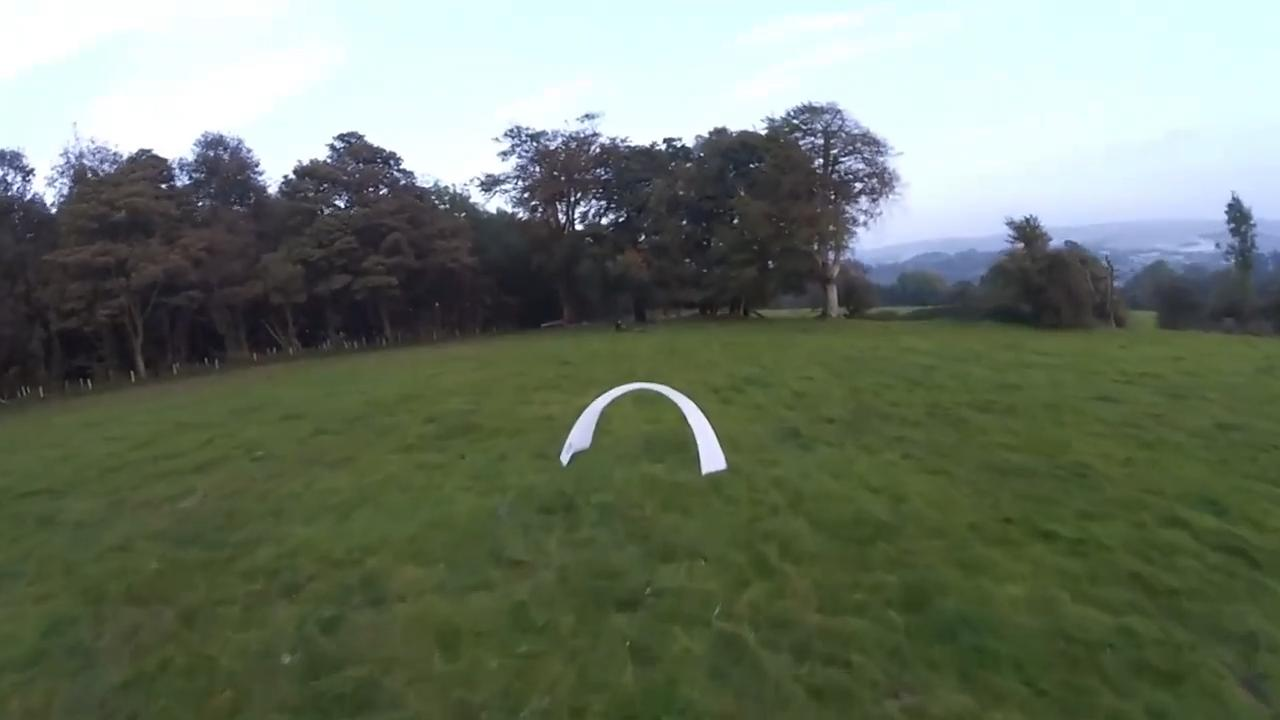gate: (560, 380, 730, 478)
